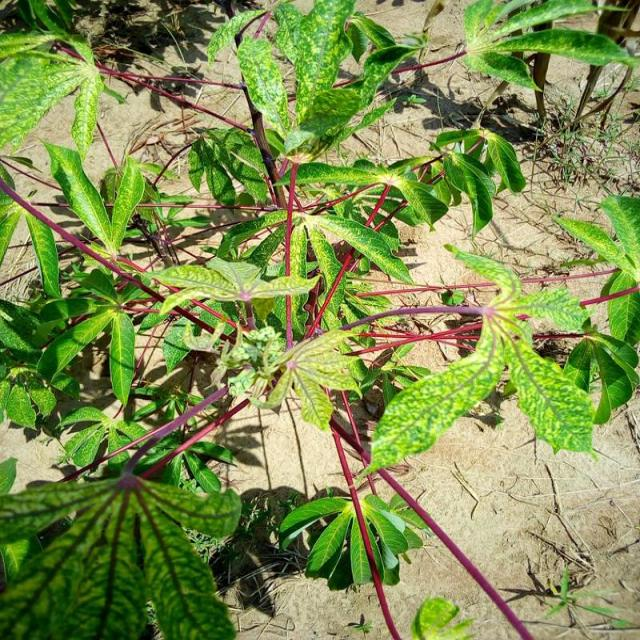cassava leaf: (362, 241, 595, 478)
